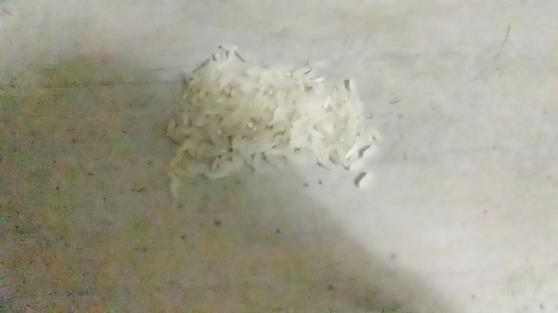rice: (152, 41, 387, 198)
